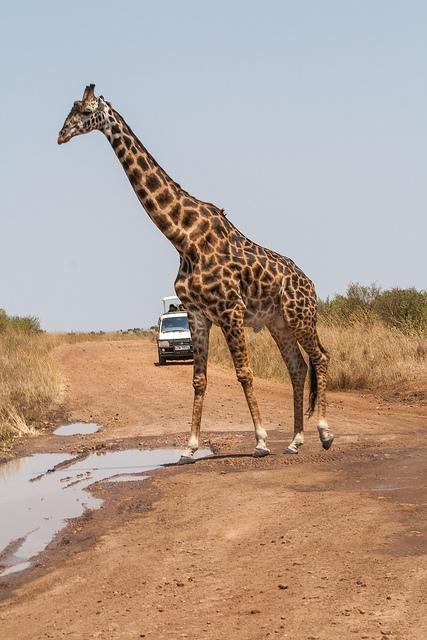car: (154, 312, 195, 365)
